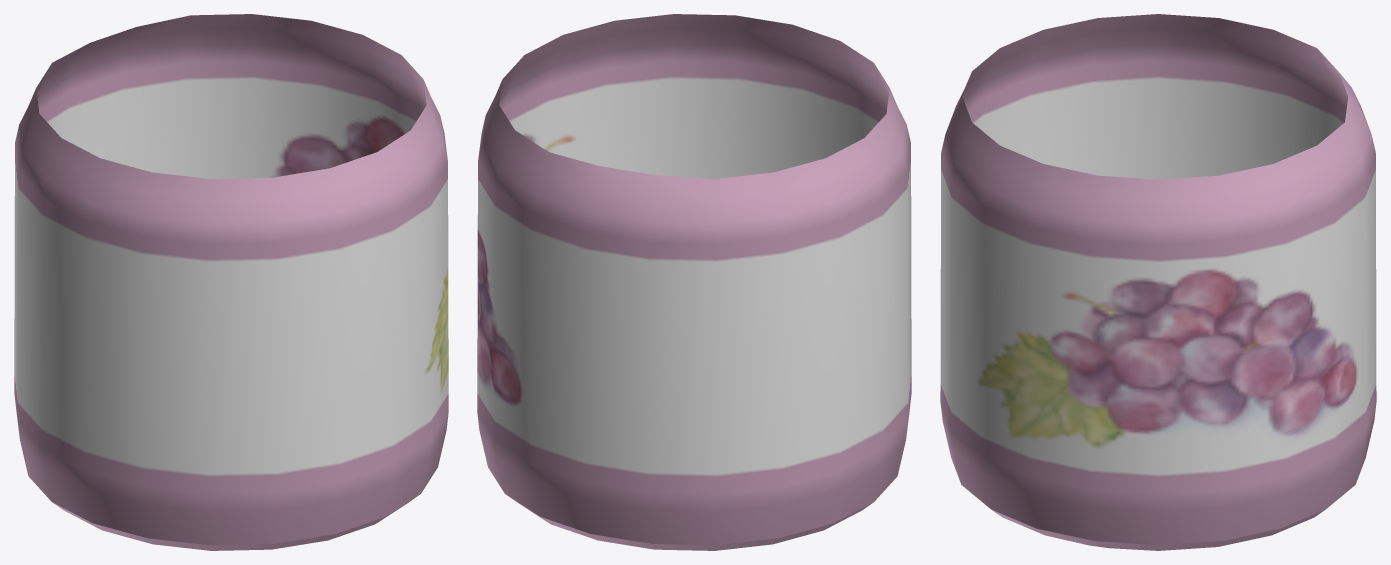
Rendered from jam4.obj.
3 views of the same model, side by side, from view 1: azimuth 30°, elevation 25°; view 2: azimuth 150°, elevation 25°; view 3: azimuth 270°, elevation 25° (orthographic).
Visible parts, largest first — view 1: polySurface1 group62; view 2: polySurface1 group62; view 3: polySurface1 group62.
Boxes of the visible parts, left/top/right/bottom form: polySurface1 group62: left=14, top=14, right=448, bottom=550; polySurface1 group62: left=477, top=14, right=911, bottom=550; polySurface1 group62: left=940, top=14, right=1376, bottom=550.
Bounding box in the file's own units: 21.66 × 20.42 × 21.66.
